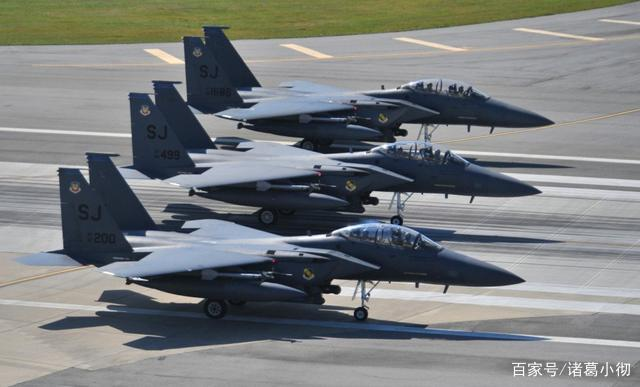airplane: (43, 149, 527, 325), (109, 78, 544, 215), (177, 28, 556, 149)
